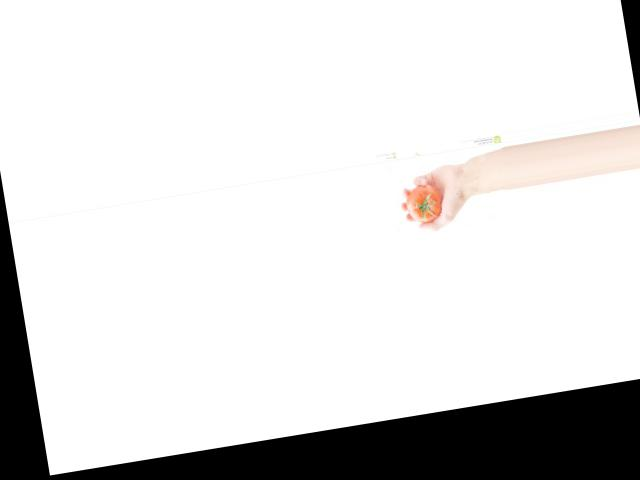tomato: (403, 181, 444, 224)
